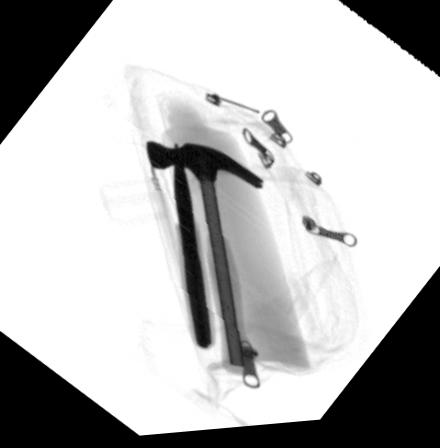Hammer: (144, 143, 262, 380)
Pliers: (172, 147, 214, 355)
